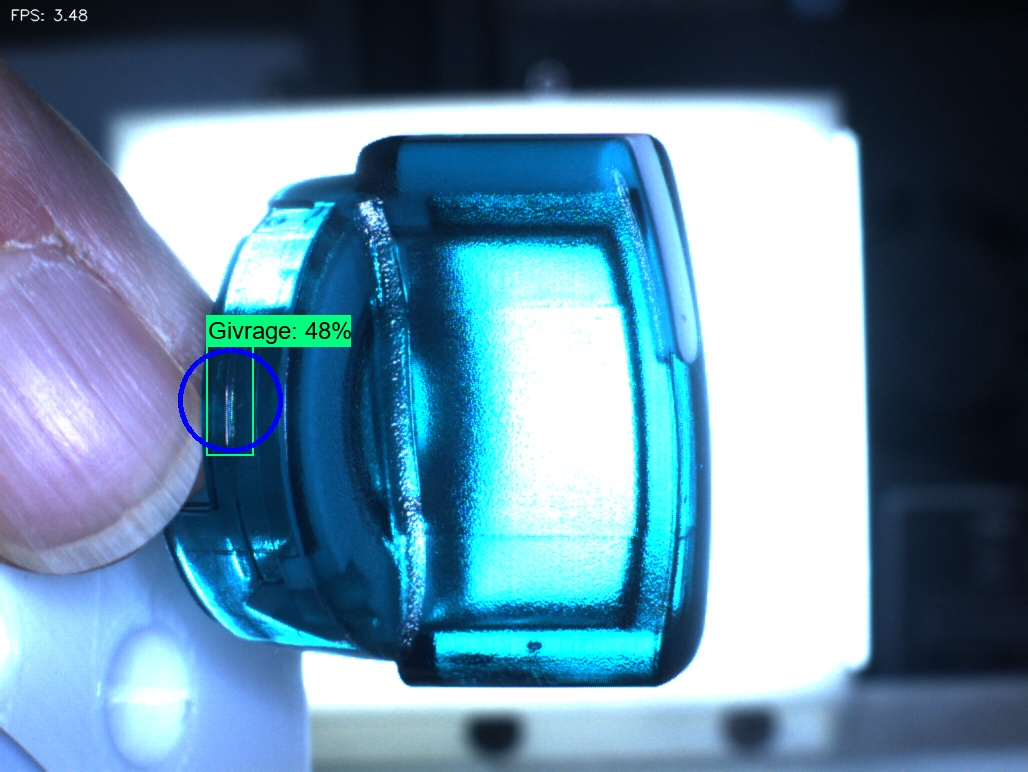Bulle: (495, 599, 576, 692)
